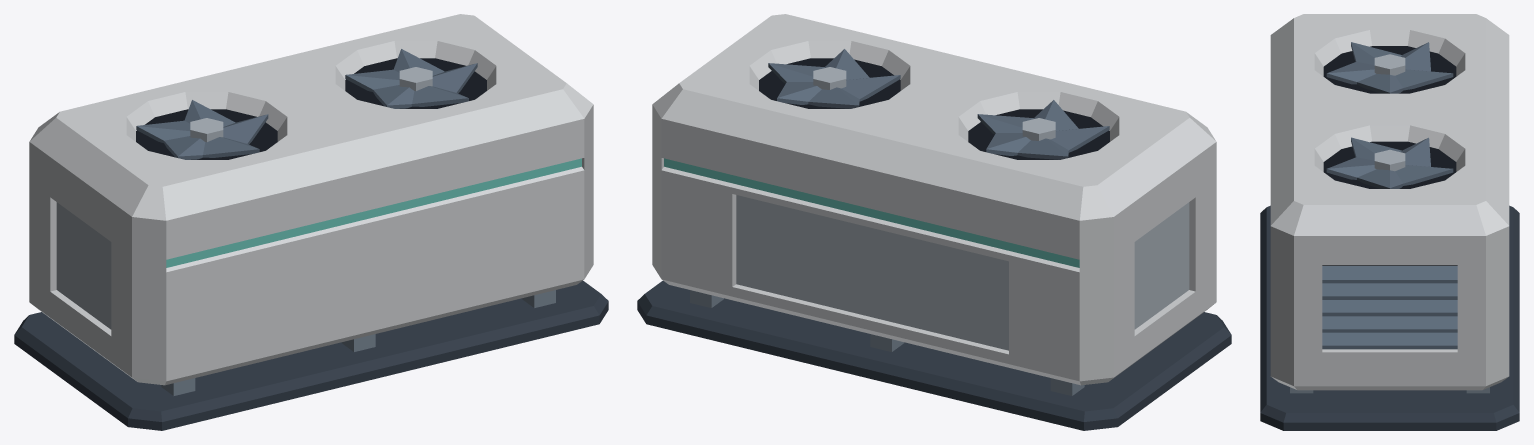
The model's file is rooftop-chiller-unit-3946e3.glb.
3 views of the same model, side by side, from view 1: azimuth 30°, elevation 25°; view 2: azimuth 150°, elevation 25°; view 3: azimuth 270°, elevation 25° (orthographic). The views are drawn at different scales.
Parts seen in each view (by area): view 1: chiller-body, fan-r-rotor, fan-l-rotor; view 2: chiller-body, fan-r-rotor, fan-l-rotor; view 3: chiller-body, fan-l-rotor, fan-r-rotor.
Part boxes in pixels (x1,y1,x2,y2): chiller-body: (14, 14, 608, 430); fan-r-rotor: (345, 49, 477, 108); fan-l-rotor: (136, 100, 268, 159); chiller-body: (637, 14, 1231, 430); fan-r-rotor: (768, 49, 900, 108); fan-l-rotor: (977, 100, 1109, 159); chiller-body: (1260, 14, 1519, 430); fan-l-rotor: (1326, 42, 1453, 93); fan-r-rotor: (1326, 137, 1453, 188).
Bounding box in the file's own units: 4 × 1.8 × 2.
